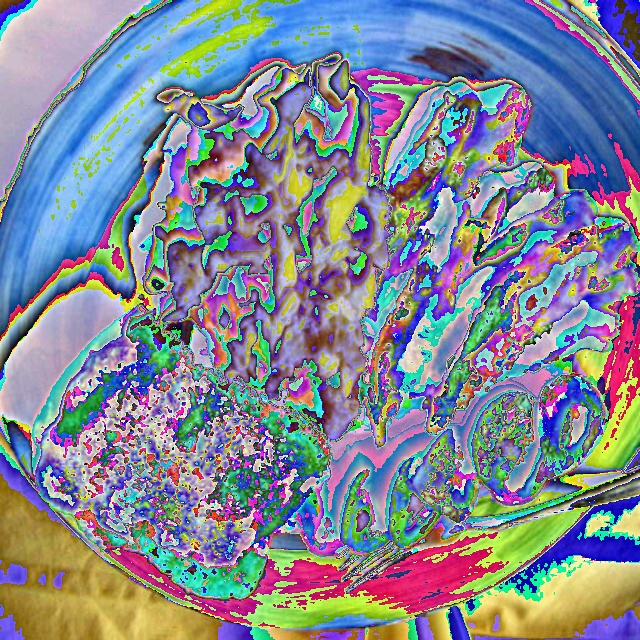background: (32, 60, 639, 601)
